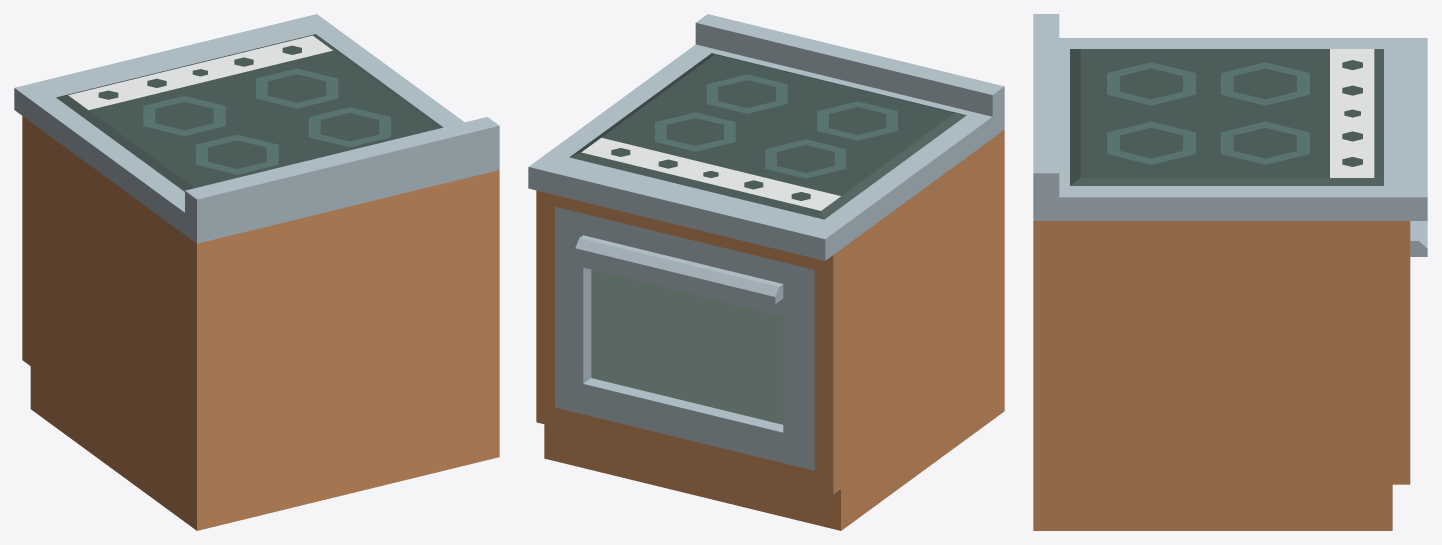
The model's file is stove.glb.
3 views of the same model, side by side, from view 1: azimuth 30°, elevation 25°; view 2: azimuth 150°, elevation 25°; view 3: azimuth 270°, elevation 25° (orthographic). The views are drawn at different scales.
Parts seen in each view (by area): view 1: kitchenStoveElectric; view 2: kitchenStoveElectric; view 3: kitchenStoveElectric.
Boxes of the visible parts, x1,y1,x2,y2 form: kitchenStoveElectric: (14,14,499,530); kitchenStoveElectric: (528,14,1004,530); kitchenStoveElectric: (1033,14,1427,530).
Size of the model in its own units: 0.43 by 0.45 by 0.45.
1 material, 1 textured.
